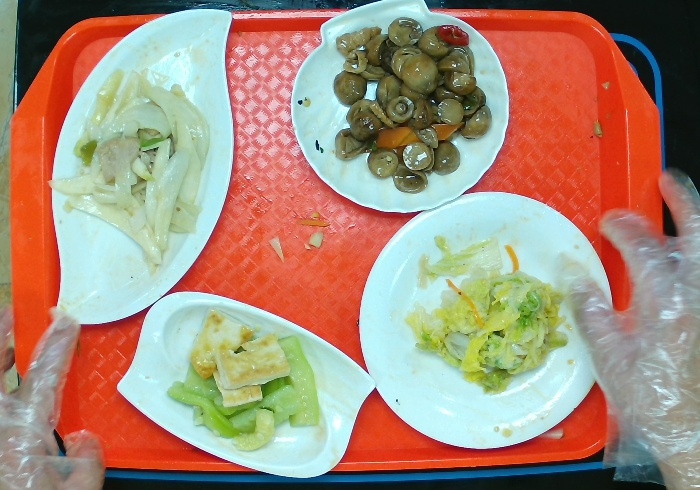RJxy-Bei_Ke_Wan: (290, 1, 509, 215)
RJxy-Jian_Jiao_Fang_Die: (111, 287, 381, 481)
RJxy-Jian_Jiao_Pan: (46, 5, 235, 333)
RJxy-Yuan_Pan: (358, 190, 615, 450)
